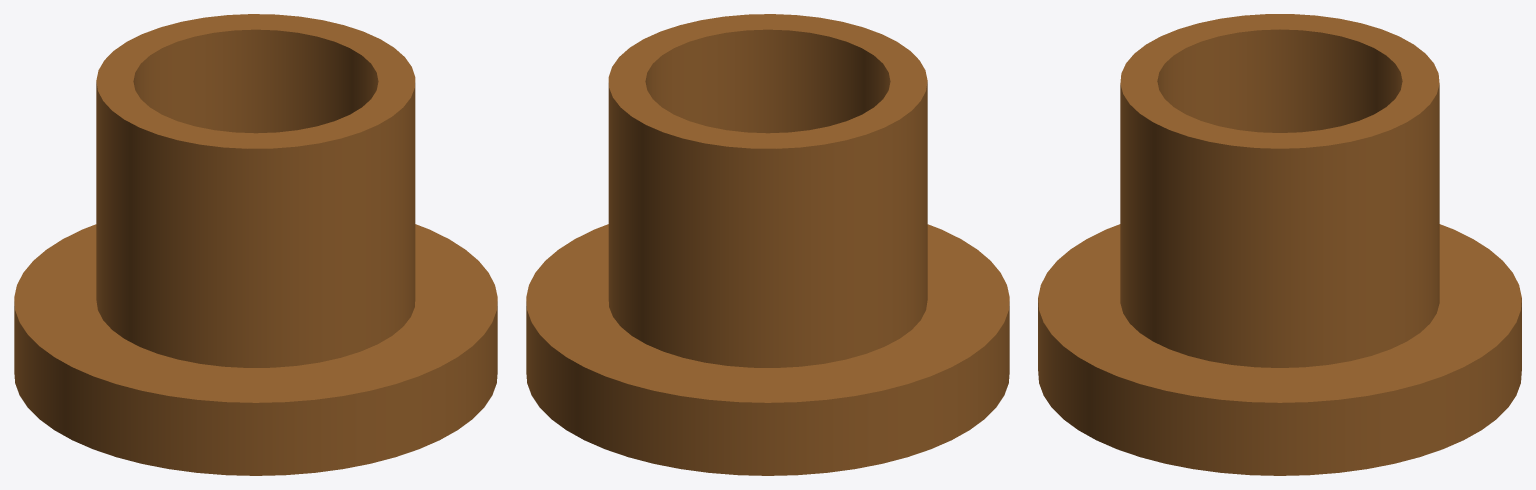
Rendered from Bushing.gltf.
The picture shows the model from 3 angles, left to right: view 1: azimuth 30°, elevation 25°; view 2: azimuth 150°, elevation 25°; view 3: azimuth 270°, elevation 25°; orthographic projection.
Parts seen in each view (by area): view 1: Bushing; view 2: Bushing; view 3: Bushing.
Part boxes in pixels (box(x1,y1,x2,y2)): Bushing: box(14, 14, 497, 475); Bushing: box(526, 14, 1009, 475); Bushing: box(1038, 14, 1521, 475).
Bounding box in the file's own units: 0.0381 × 0.0254 × 0.0381.
